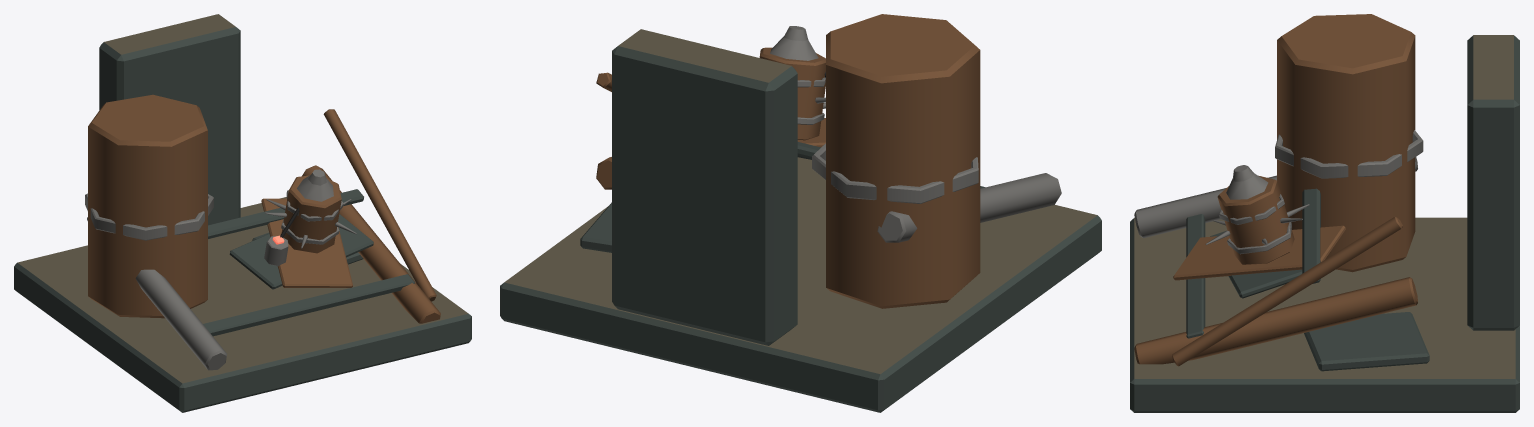
File: R4X_ExplosiveTrapDeployer_LOD1.fbx
The picture shows the model from 3 angles, left to right: view 1: azimuth 30°, elevation 25°; view 2: azimuth 150°, elevation 25°; view 3: azimuth 270°, elevation 25°; orthographic projection. The views are drawn at different scales.
Visible parts, largest first — view 1: R4X_ExplosiveTrapDeployer_LOD1; view 2: R4X_ExplosiveTrapDeployer_LOD1; view 3: R4X_ExplosiveTrapDeployer_LOD1.
Part boxes in pixels (<box>): R4X_ExplosiveTrapDeployer_LOD1: <box>14,14,471,412</box>; R4X_ExplosiveTrapDeployer_LOD1: <box>500,14,1101,412</box>; R4X_ExplosiveTrapDeployer_LOD1: <box>1130,14,1519,412</box>.
Size of the model in its own units: 0.52 by 0.39 by 0.52.
